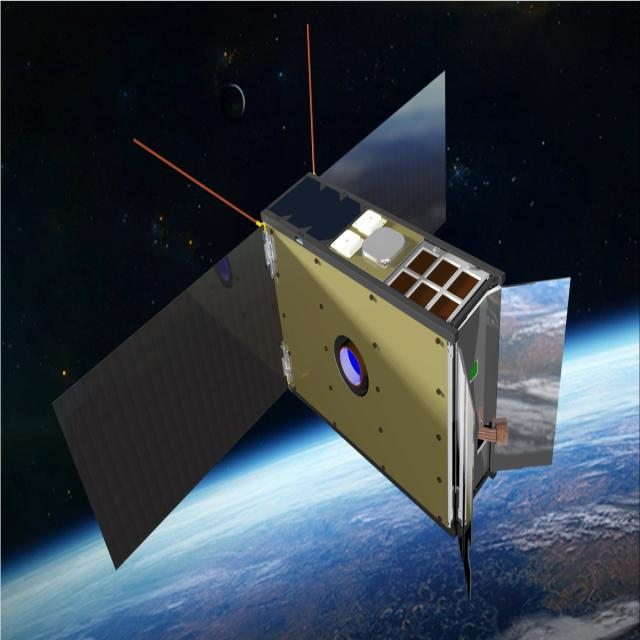sat: (48, 36, 574, 604)
